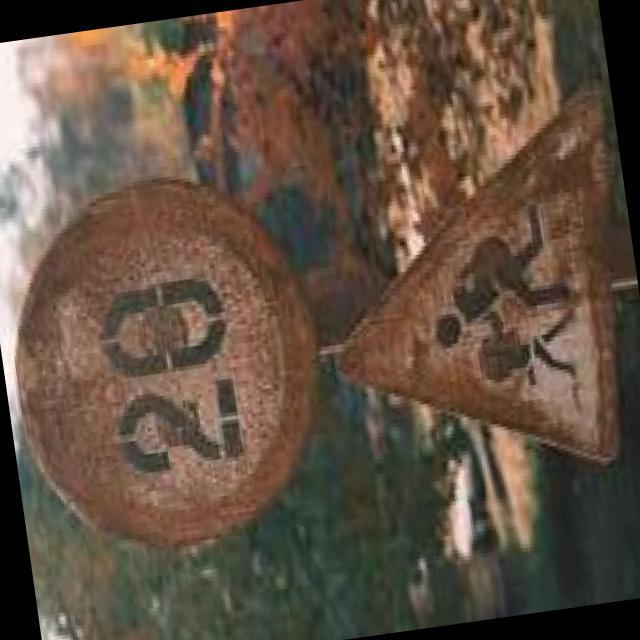obstructed_road_sign: (16, 181, 315, 545), (342, 94, 619, 462)
